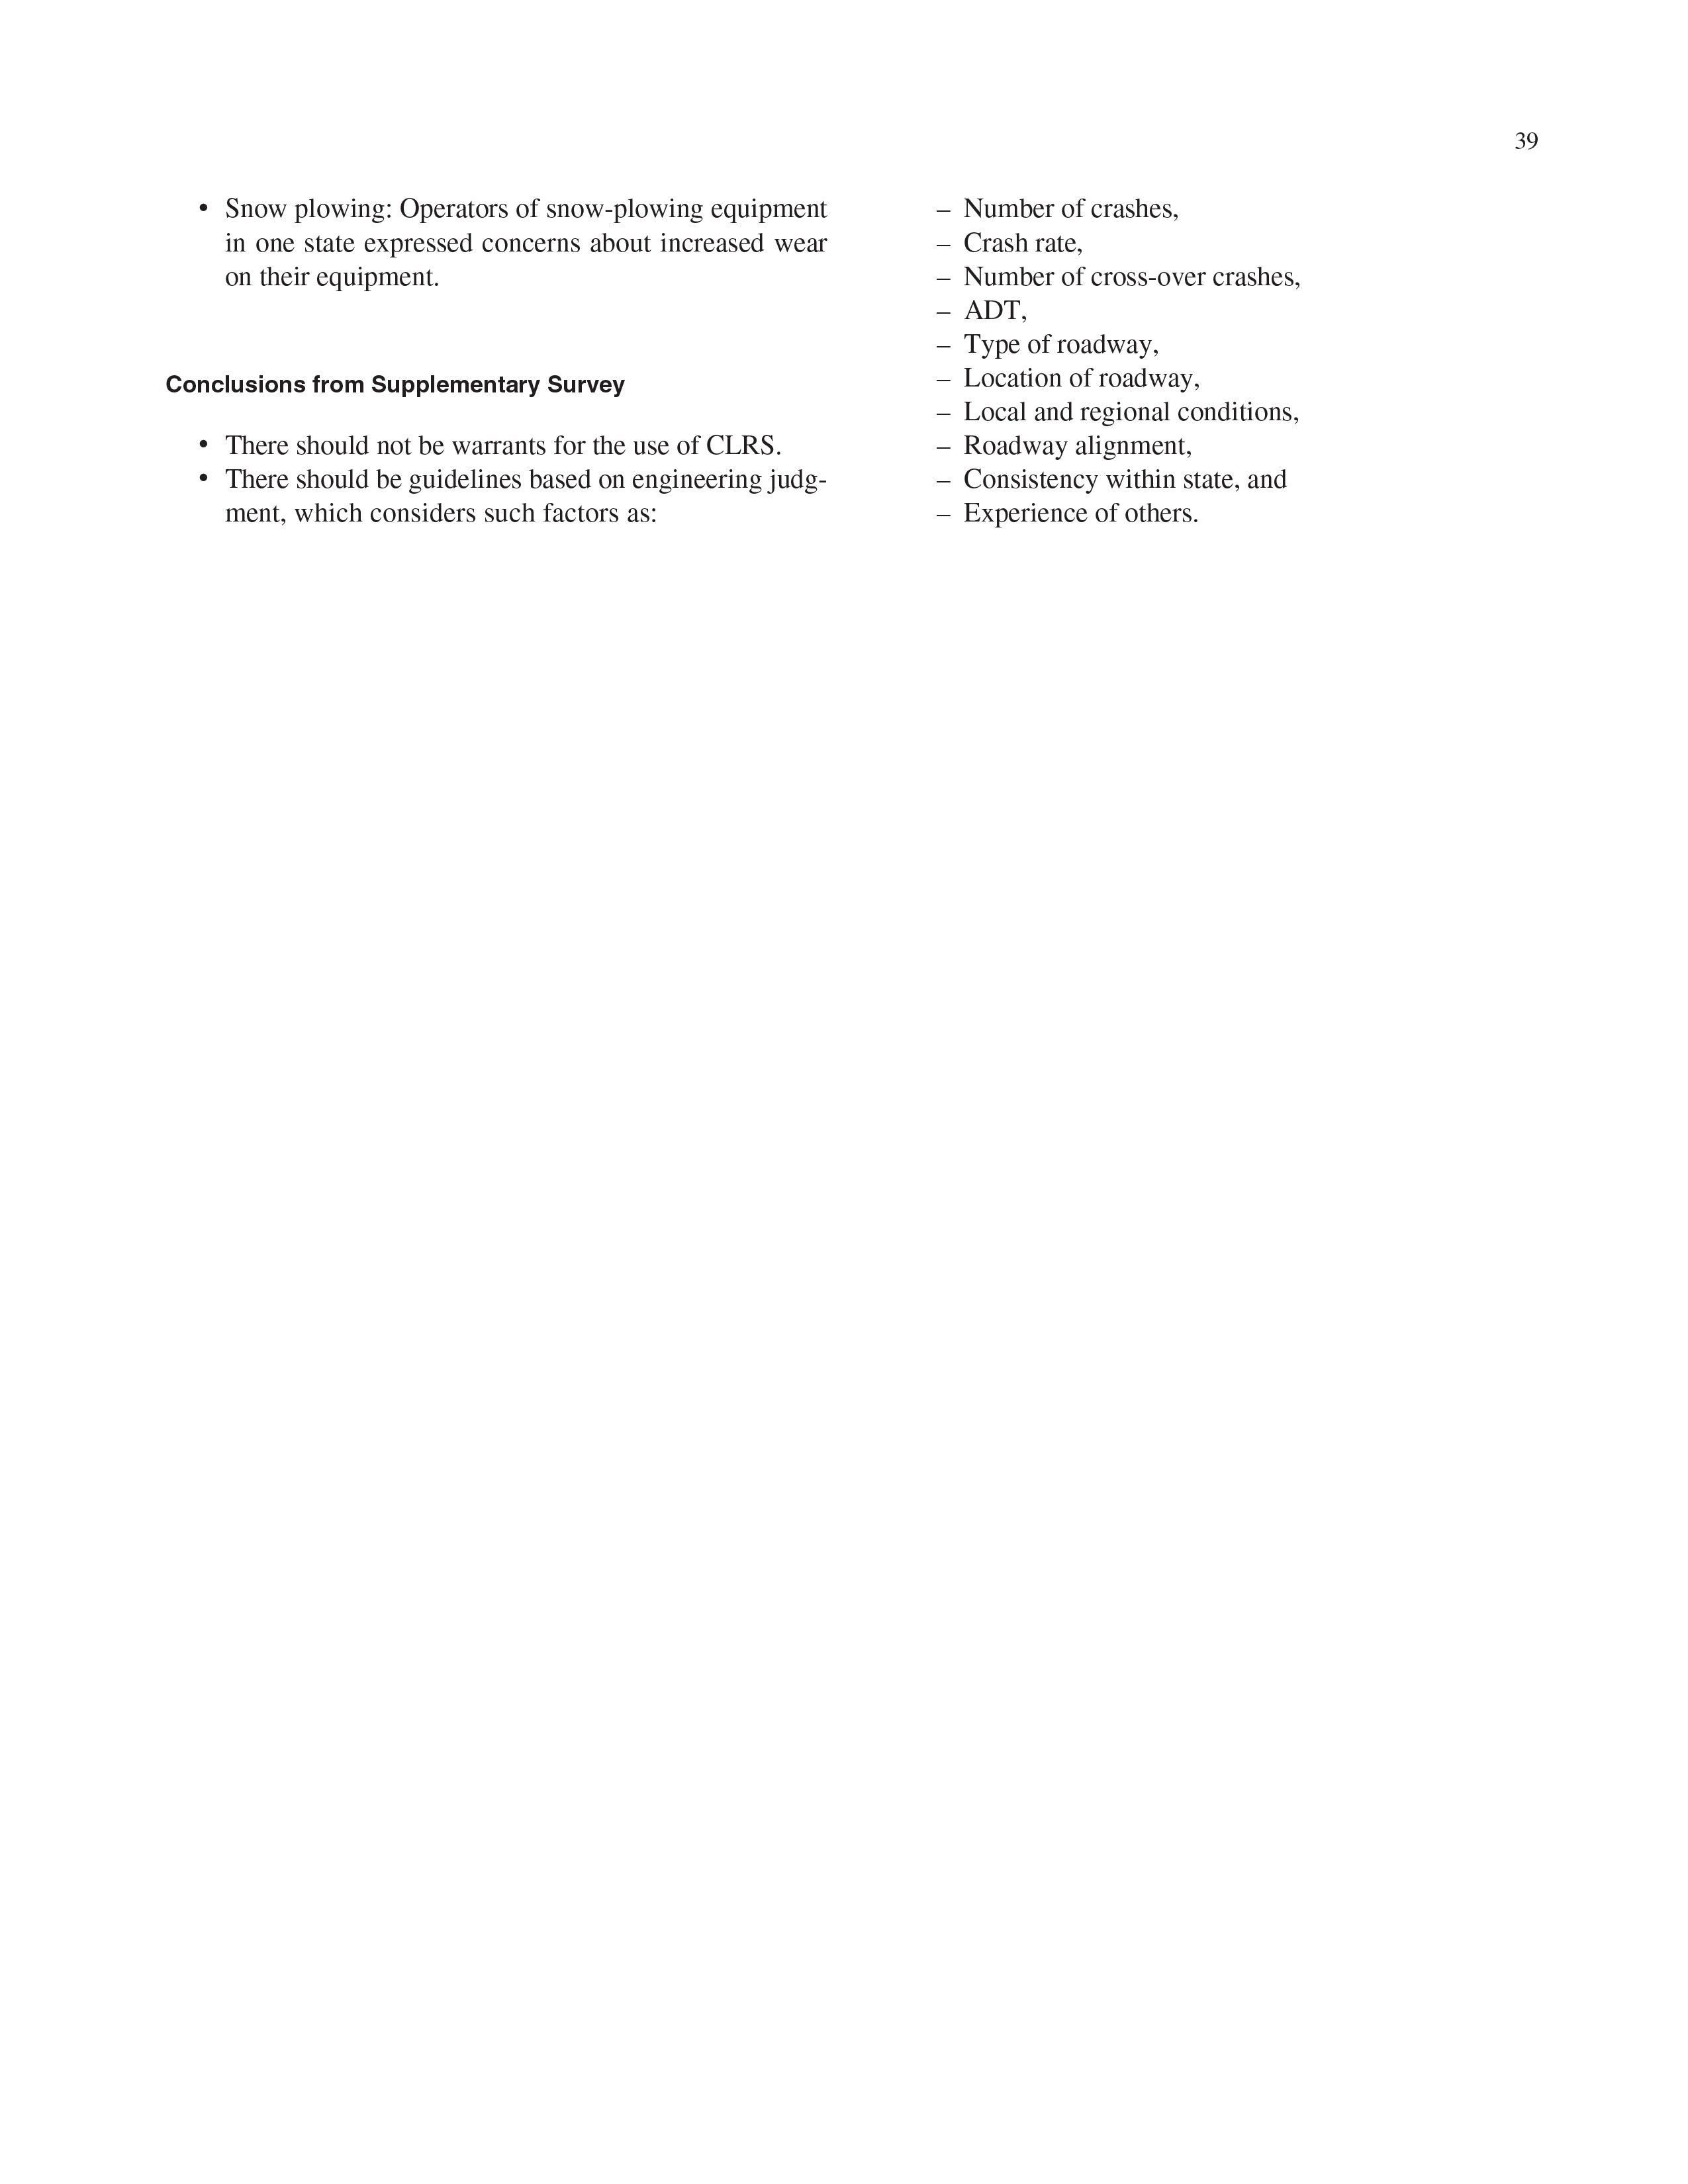list: (926, 175, 1325, 546), (183, 186, 860, 330), (195, 417, 849, 551)
section: (149, 353, 651, 406)
